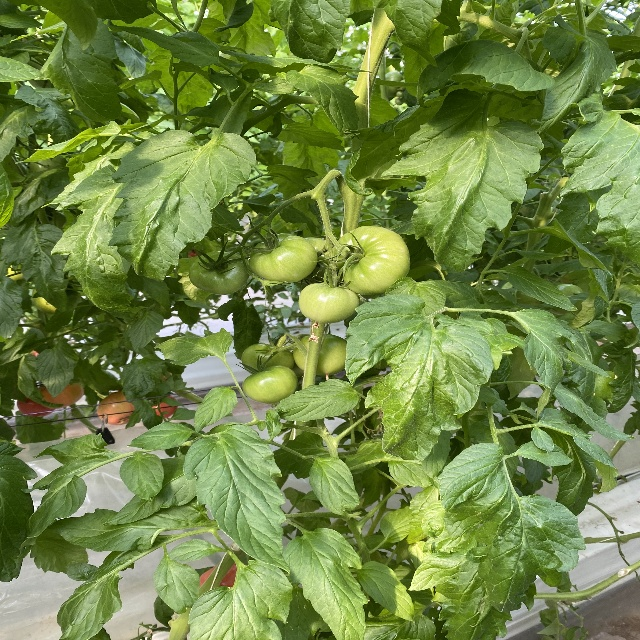b_fully_ripened: (17, 398, 55, 417)
b_green: (333, 225, 410, 295), (249, 233, 318, 283), (189, 251, 250, 295), (299, 282, 361, 323), (293, 333, 347, 377), (242, 365, 298, 404), (295, 237, 340, 284), (241, 343, 295, 374)
b_half_ripened: (97, 391, 135, 425), (36, 384, 84, 409)
